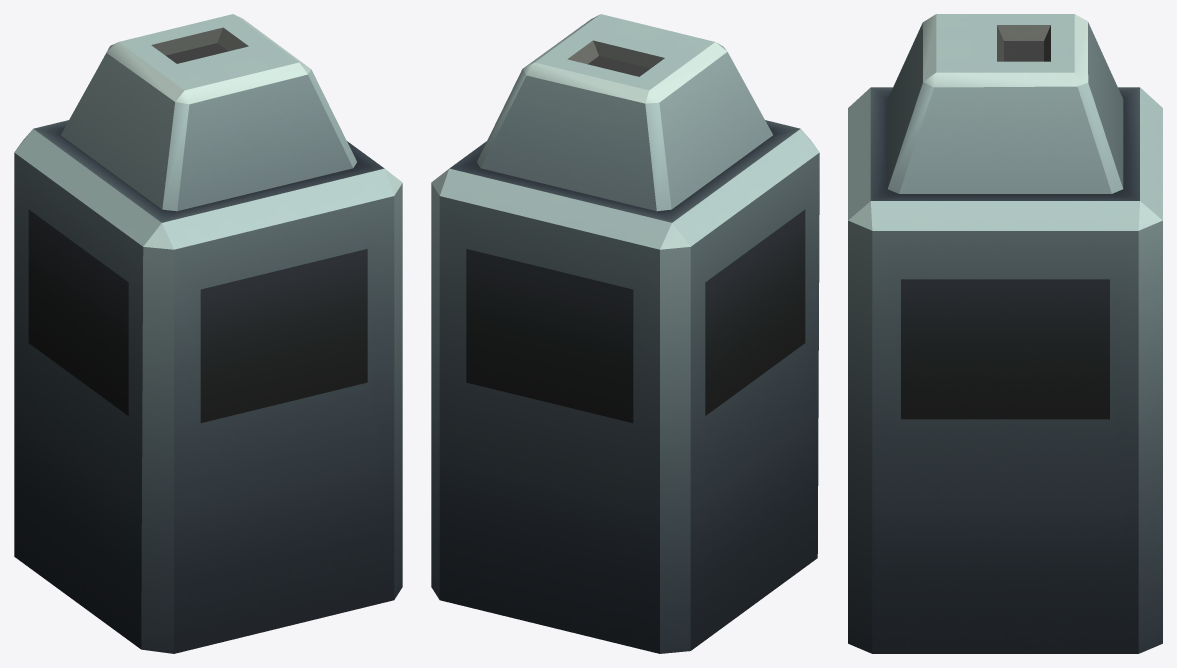
The model's file is trashcan_fixed.fbx.
3 views of the same model, side by side, from view 1: azimuth 30°, elevation 25°; view 2: azimuth 150°, elevation 25°; view 3: azimuth 270°, elevation 25° (orthographic). The views are drawn at different scales.
Visible parts, largest first — view 1: trashcan_fixed; view 2: trashcan_fixed; view 3: trashcan_fixed.
Boxes of the visible parts, left/top/right/bottom form: trashcan_fixed: left=14, top=14, right=402, bottom=653; trashcan_fixed: left=431, top=14, right=819, bottom=653; trashcan_fixed: left=848, top=14, right=1162, bottom=653.
Size of the model in its own units: 54.32 by 104 by 54.32.
